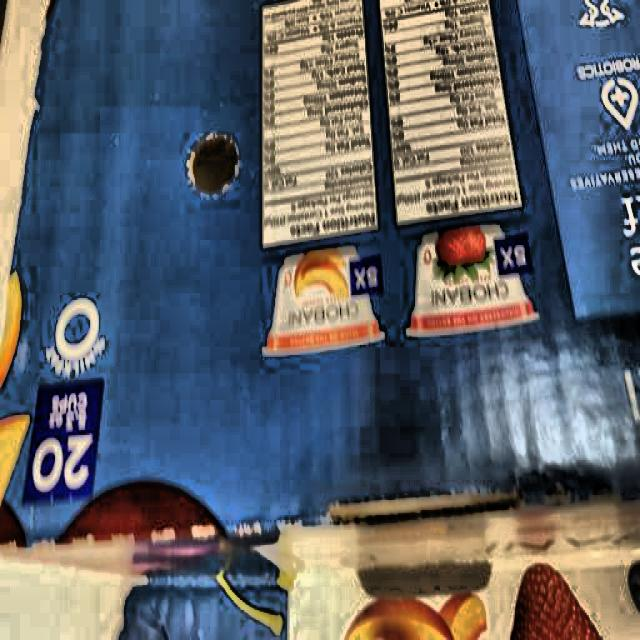cardboard: (5, 0, 640, 592)
